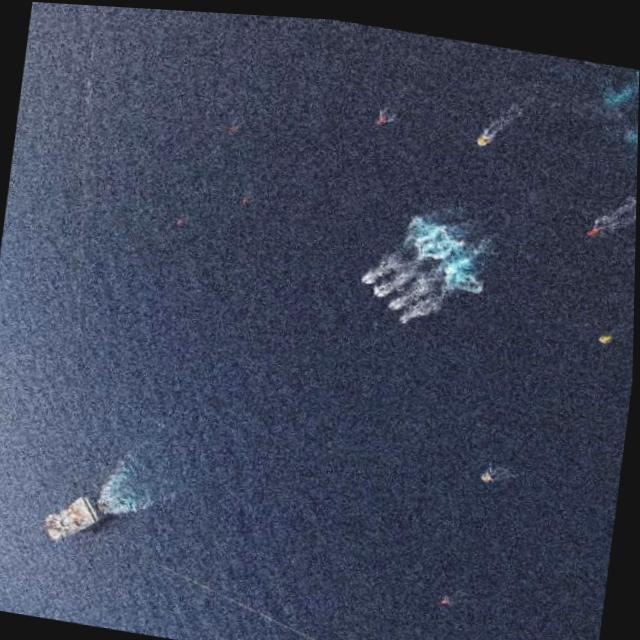ship2: (45, 493, 103, 539)
